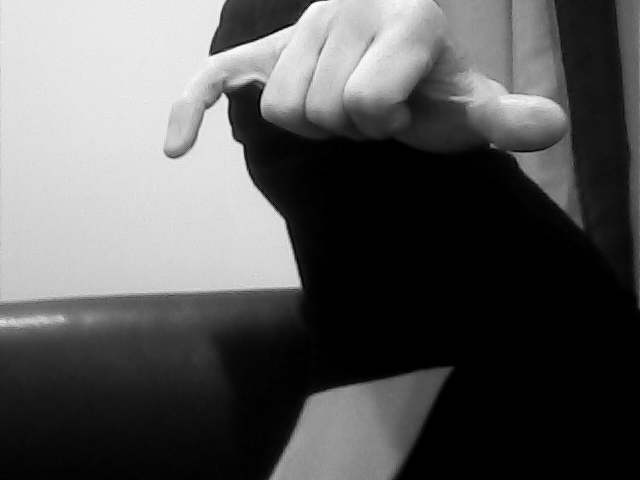aloha: (161, 1, 581, 172)
